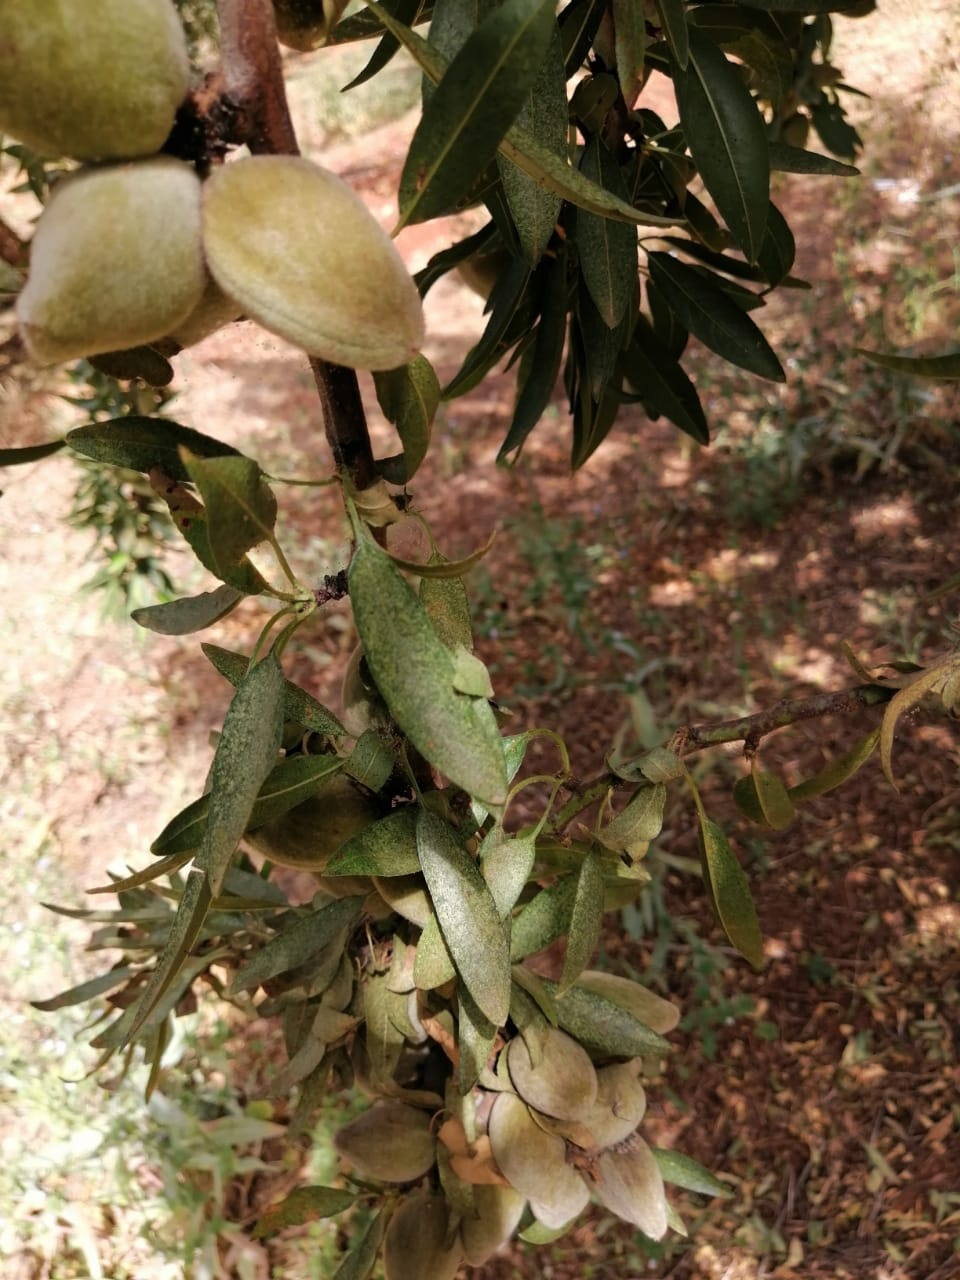acariens: (346, 540, 509, 806), (414, 810, 513, 1027), (203, 653, 287, 900)
